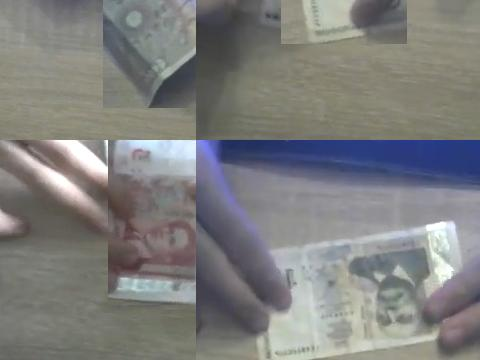5leva: (108, 140, 196, 305)
